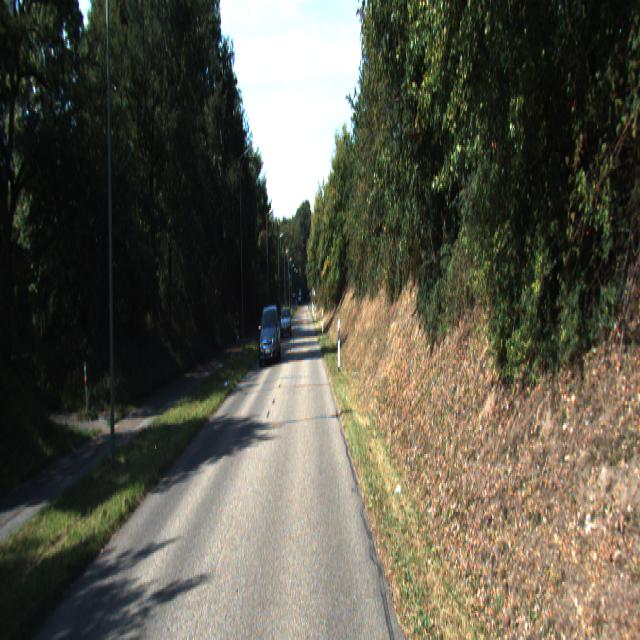Car: (258, 305, 280, 367), (280, 305, 291, 338)
